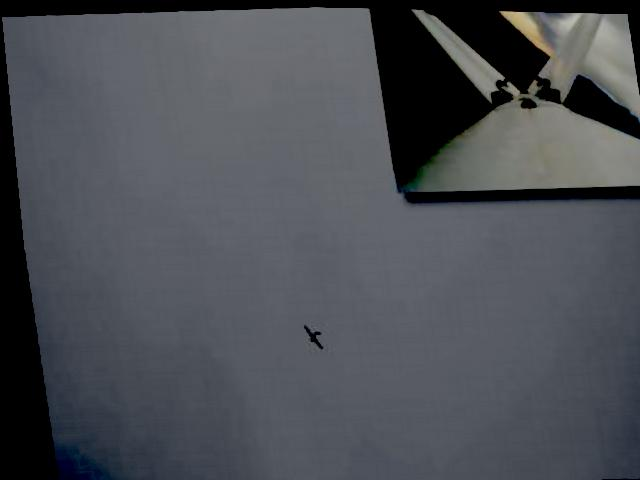uav: (291, 315, 328, 356)
